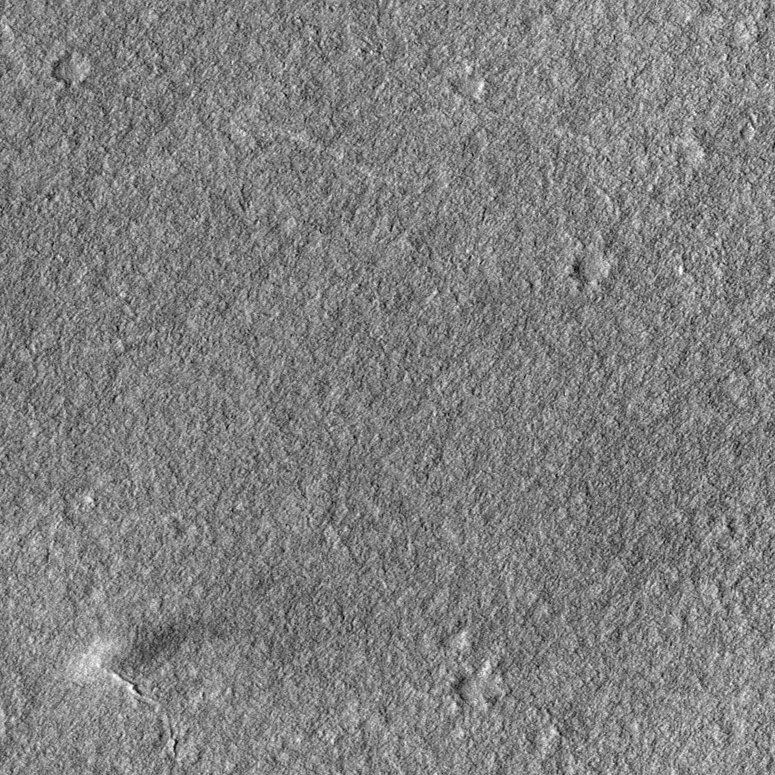dust_devil: (68, 609, 210, 689)
